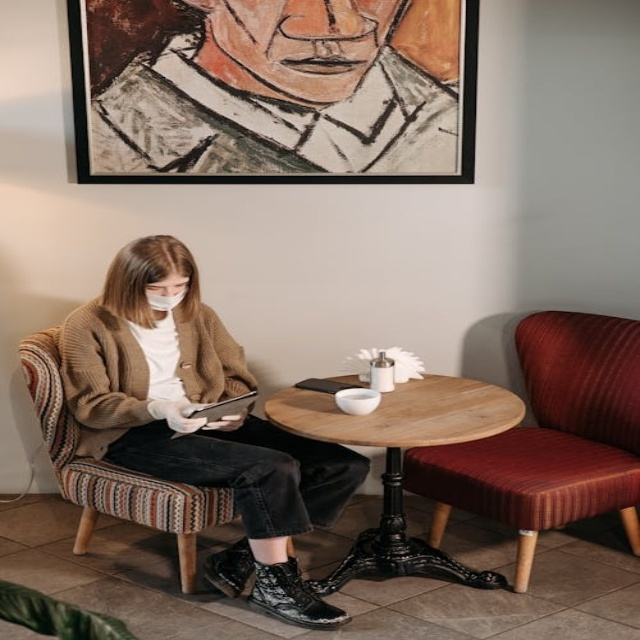Guantes: (148, 398, 209, 433), (198, 408, 250, 436)
Mascara: (143, 286, 189, 312)
Sin_gafas: (144, 280, 192, 293)
